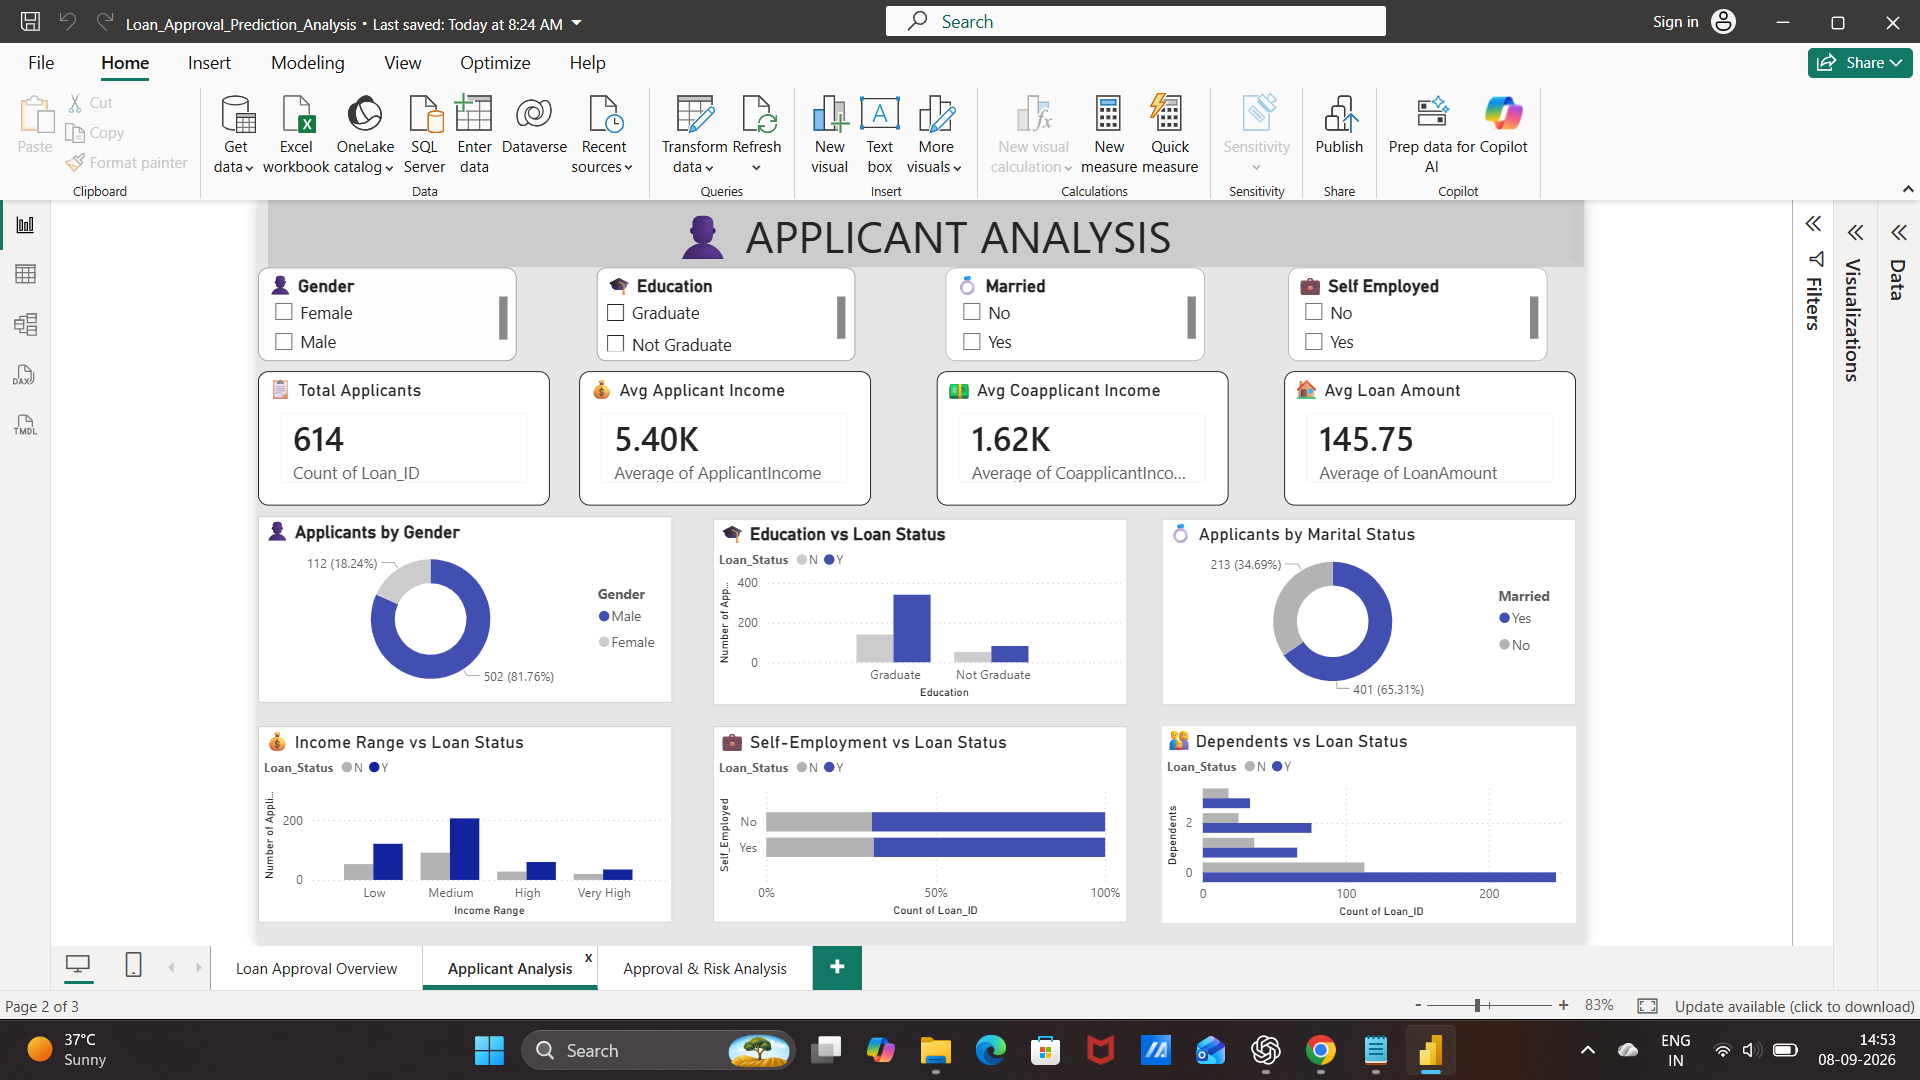

Layout of this report page (visuals, bound fields, positions):
{"tool":"powerbi","page":{"name":"Applicant Analysis","canvas":[1280,720],"ordinal":1},"visuals":[{"type":"textbox","box":[9.8,0,1270.5,64.8],"z":0},{"type":"slicer","title":"👤 Gender","fields":{"Values":["LoanData.Gender"]},"box":[0,64.8,249.5,90.5],"z":1000},{"type":"listSlicer","title":"🎓 Education","fields":{"Values":["LoanData.Education"]},"box":[326.5,64.8,249.5,90.5],"z":2000},{"type":"slicer","title":"💍 Married","fields":{"Values":["LoanData.Married"]},"box":[664,64.8,250,90],"z":3000},{"type":"slicer","title":"💼 Self Employed","fields":{"Values":["LoanData.Self_Employed"]},"box":[994.2,64.8,250,90],"z":4000},{"type":"cardVisual","title":"📋 Total Applicants","fields":{"Data":["CountNonNull(LoanData.Loan_ID)"]},"box":[0,165.1,281.3,129.6],"z":5000},{"type":"cardVisual","title":"💰 Avg Applicant Income","fields":{"Data":["Avg(LoanData.ApplicantIncome)"]},"box":[310.6,165.1,281.3,129.6],"z":6000},{"type":"cardVisual","title":"💵 Avg Coapplicant Income","fields":{"Data":["Avg(LoanData.CoapplicantIncome)"]},"box":[655.4,165.1,281.3,129.6],"z":7000},{"type":"cardVisual","title":"🏠 Avg Loan Amount","fields":{"Data":["Avg(LoanData.LoanAmount)"]},"box":[990.5,165.1,281.3,129.6],"z":8000},{"type":"donutChart","title":"👤 Applicants by Gender","fields":{"Category":["LoanData.Gender"],"Y":["CountNonNull(LoanData.Loan_ID)"]},"box":[0,305.7,400,180],"z":9000},{"type":"clusteredColumnChart","title":"🎓 Education vs Loan Status","fields":{"Category":["LoanData.Education"],"Y":["CountNonNull(LoanData.Loan_ID)"],"Series":["LoanData.Loan_Status"]},"box":[439,308.2,399.9,179.8],"z":10000},{"type":"donutChart","title":"💍 Applicants by Marital Status","fields":{"Category":["LoanData.Married"],"Y":["CountNonNull(LoanData.Loan_ID)"]},"box":[871.9,308.2,399.9,179.8],"z":11000},{"type":"clusteredBarChart","title":"👨👩👧 Dependents vs Loan Status","fields":{"Category":["LoanData.Dependents"],"Y":["CountNonNull(LoanData.Loan_ID)"],"Series":["LoanData.Loan_Status"]},"box":[871.9,507.5,399.9,189.5],"z":12000},{"type":"hundredPercentStackedBarChart","title":"💼 Self-Employment vs Loan Status","fields":{"Category":["LoanData.Self_Employed"],"Y":["CountNonNull(LoanData.Loan_ID)"],"Series":["LoanData.Loan_Status"]},"box":[439,507.5,399.9,189.5],"z":13000},{"type":"clusteredColumnChart","title":"💰 Income Range vs Loan Status","fields":{"Category":["LoanData.Income Range"],"Y":["CountNonNull(LoanData.Loan_ID)"],"Series":["LoanData.Loan_Status"]},"box":[0,507.5,399.9,189.5],"z":14000}]}

Visuals, with their boxes on the page's 1280x720 design canvas (x1, y1, x2, y2). These are canvas units, not pixel positions in the 1920x1080 screenshot, which may show the page scaled, cropped or inside an application window:
textbox: bbox(10, 0, 1280, 65)
"👤 Gender" slicer: bbox(0, 65, 250, 155)
"🎓 Education" listSlicer: bbox(326, 65, 576, 155)
"💍 Married" slicer: bbox(664, 65, 914, 155)
"💼 Self Employed" slicer: bbox(994, 65, 1244, 155)
"📋 Total Applicants" cardVisual: bbox(0, 165, 281, 295)
"💰 Avg Applicant Income" cardVisual: bbox(311, 165, 592, 295)
"💵 Avg Coapplicant Income" cardVisual: bbox(655, 165, 937, 295)
"🏠 Avg Loan Amount" cardVisual: bbox(990, 165, 1272, 295)
"👤 Applicants by Gender" donutChart: bbox(0, 306, 400, 486)
"🎓 Education vs Loan Status" clusteredColumnChart: bbox(439, 308, 839, 488)
"💍 Applicants by Marital Status" donutChart: bbox(872, 308, 1272, 488)
"👨👩👧 Dependents vs Loan Status" clusteredBarChart: bbox(872, 508, 1272, 697)
"💼 Self-Employment vs Loan Status" hundredPercentStackedBarChart: bbox(439, 508, 839, 697)
"💰 Income Range vs Loan Status" clusteredColumnChart: bbox(0, 508, 400, 697)
